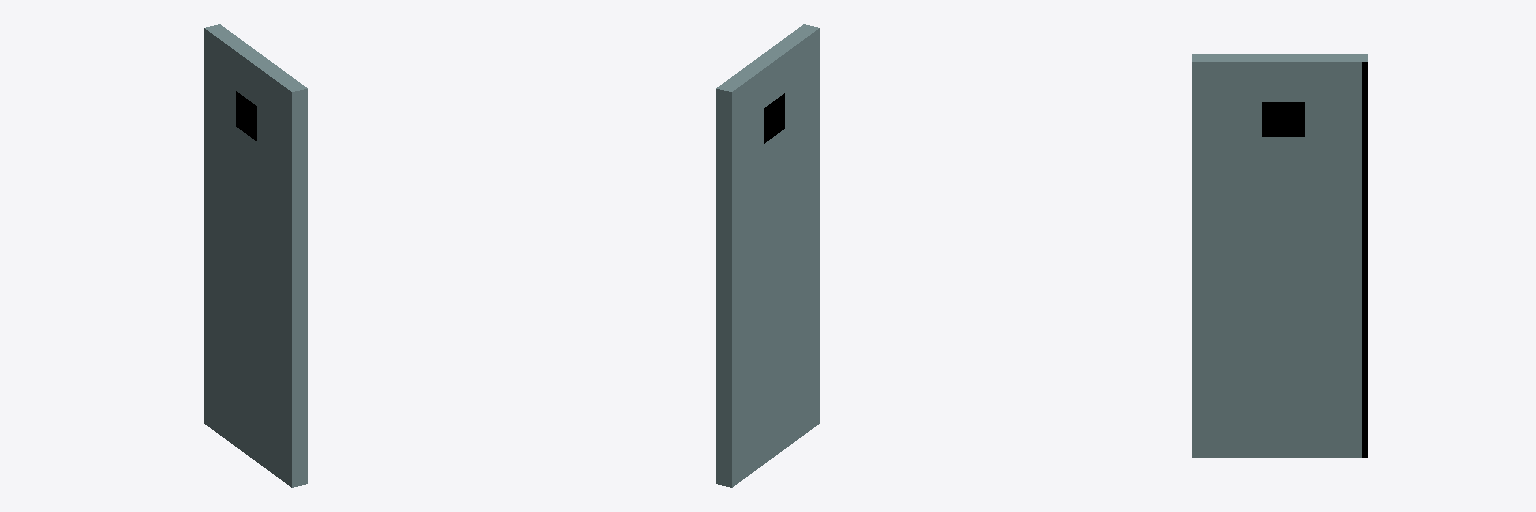
3 views of the same model, side by side, from view 1: azimuth 30°, elevation 25°; view 2: azimuth 150°, elevation 25°; view 3: azimuth 270°, elevation 25° (orthographic).
Parts seen in each view (by area): view 1: puerta2:pCube14; view 2: puerta2:pCube14; view 3: puerta2:pCube14.
Boxes of the visible parts, box(x1,y1,x2,y2) form: puerta2:pCube14: box(204, 24, 307, 487); puerta2:pCube14: box(716, 24, 819, 487); puerta2:pCube14: box(1192, 54, 1367, 457).
Size of the model in its own units: 0.2591 by 6.2 by 2.5.
Materials: 1 (1 with a texture image).